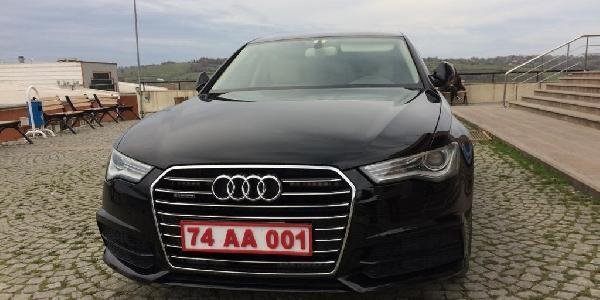audi: (209, 170, 285, 211)
